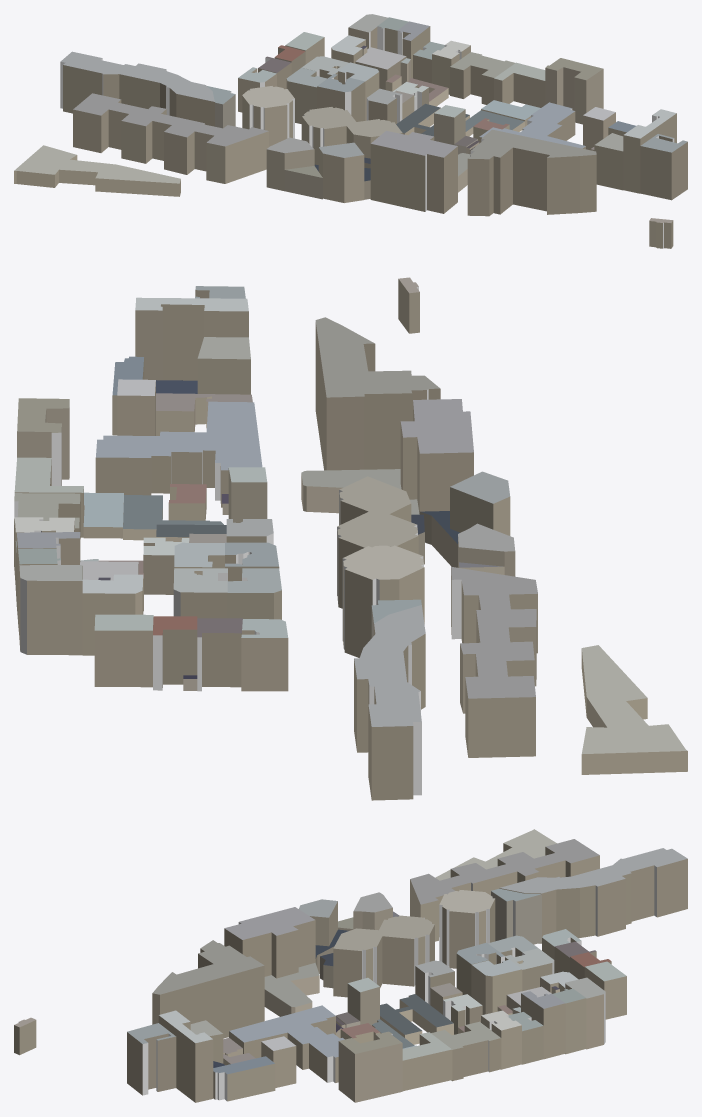
The picture shows the model from 3 angles, top to bottom: view 1: azimuth 30°, elevation 25°; view 2: azimuth 150°, elevation 25°; view 3: azimuth 270°, elevation 25°; orthographic projection. The views are drawn at different scales.
Parts seen in each view (by area): view 1: tuile; view 2: tuile; view 3: tuile.
Boxes of the visible parts, <box> form: tuile: <box>14,14,687,248</box>; tuile: <box>14,277,687,800</box>; tuile: <box>14,829,687,1102</box>.
Size of the model in its own units: 270 by 31.6 by 288.
